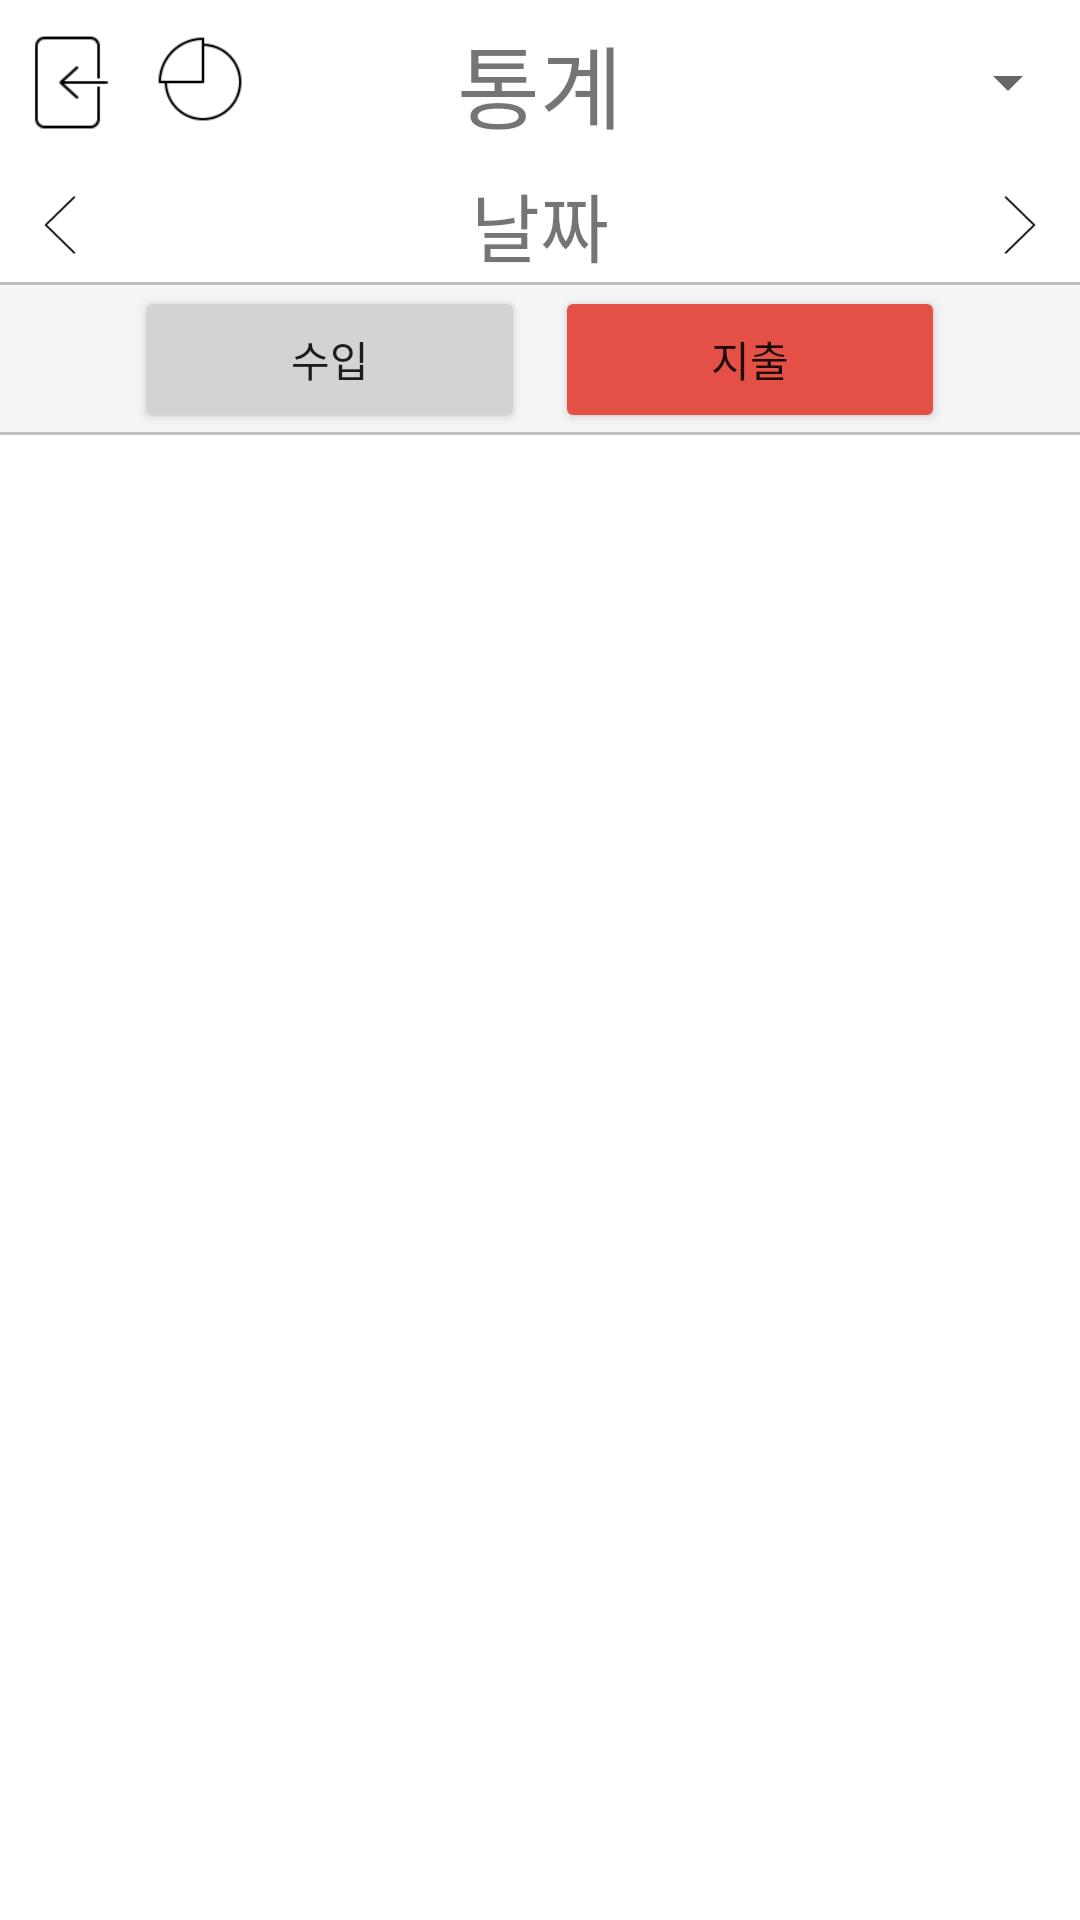

Point at icon controls on the screen. Image size 1080 x 1920, points as (x,y).
chartpie: (200,79)
